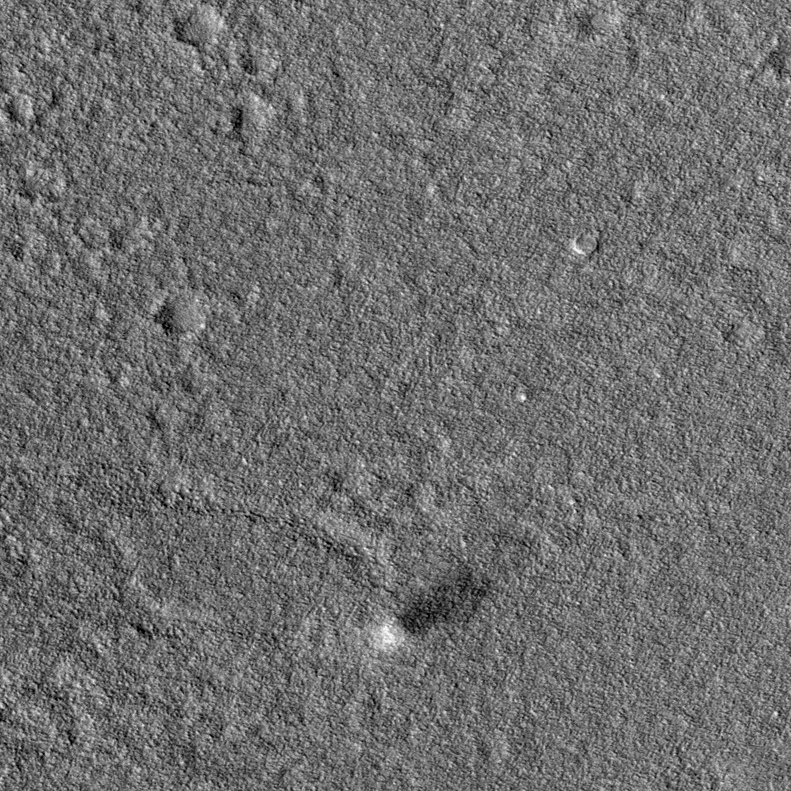dust_devil: (373, 562, 494, 654)
